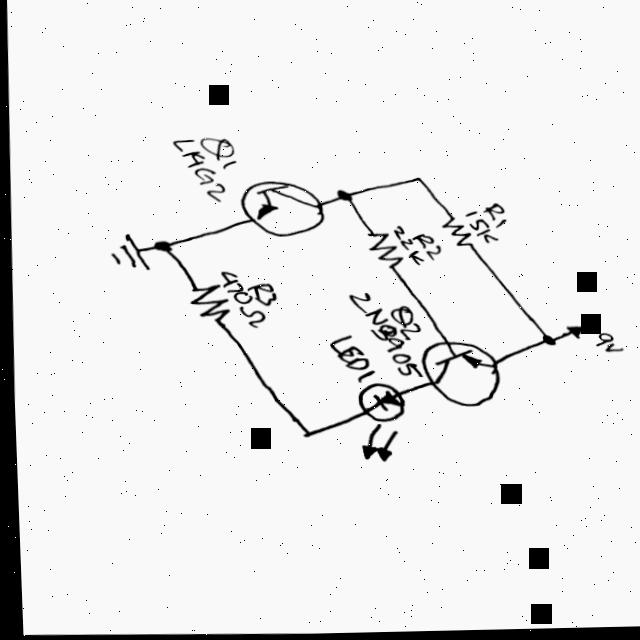diode: (353, 382, 404, 464)
ground: (105, 232, 151, 274)
junction: (331, 190, 350, 204), (535, 335, 554, 349), (150, 241, 170, 254), (297, 431, 311, 441), (408, 177, 422, 186)
resistor: (178, 278, 237, 328), (355, 231, 408, 276), (432, 213, 479, 255)
source: (558, 324, 582, 344)
text: (340, 279, 427, 380), (167, 136, 236, 204), (211, 269, 281, 331), (319, 332, 380, 388), (385, 219, 448, 272), (455, 199, 516, 253), (582, 322, 623, 358)
transistor: (410, 341, 502, 410), (234, 179, 325, 240)
